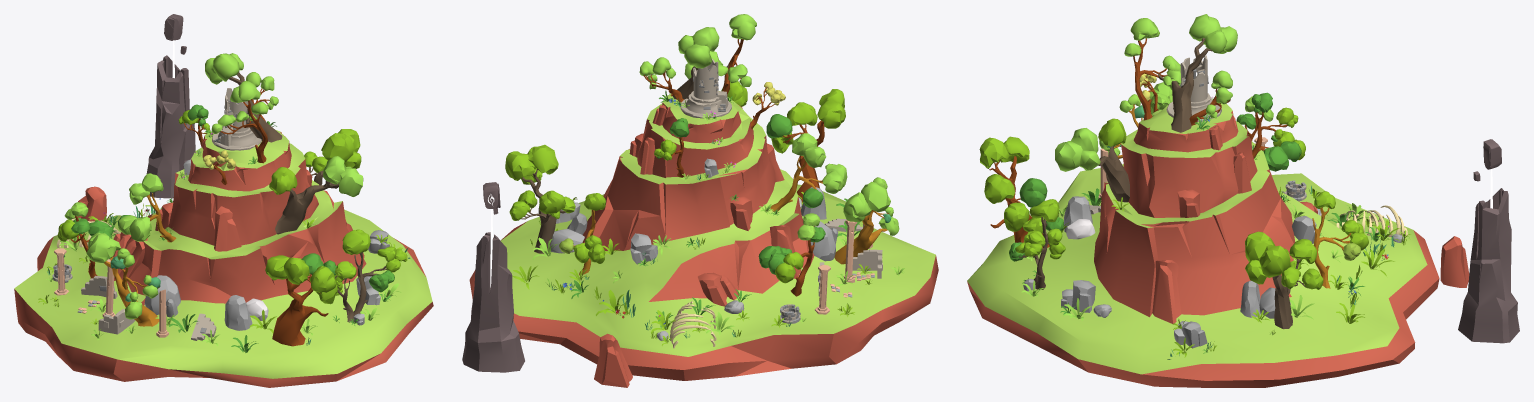
The picture shows the model from 3 angles, left to right: view 1: azimuth 30°, elevation 25°; view 2: azimuth 150°, elevation 25°; view 3: azimuth 270°, elevation 25°; orthographic projection. The views are drawn at different scales.
Visible parts, largest first — view 1: Plane.014_108, Cylinder.009_94, Cube.016_14, Cube.070_68, Cylinder.002_87, Mball.005_126, Mball.112_122, Mball.021_112, Mball.004_116, Cube.076_265, Mball.001_125, Icosphere.003_96 (+22 smaller); view 2: Plane.014_108, Cylinder.009_94, Cylinder.002_87, Mball.005_126, Cube.080_270, Mball.035_2, Mball.001_125, Mball.112_122, Mball.004_116, Cube.013_11, Mball.061_167, Cube.038_39 (+18 smaller); view 3: Plane.014_108, Cylinder.009_94, Mball.005_126, Cube.077_266, Mball.021_112, Cube.015_81, Mball.001_125, Cube.080_270, Mball.004_116, Cylinder.002_87, Mball.112_122, Cube.070_68 (+21 smaller).
Boxes of the visible parts, <box> form: Plane.014_108: <box>14,130,433,387</box>; Cylinder.009_94: <box>146,55,195,198</box>; Cube.016_14: <box>272,276,328,346</box>; Cube.070_68: <box>275,181,338,234</box>; Cylinder.002_87: <box>212,88,261,150</box>; Mball.005_126: <box>321,129,361,168</box>; Mball.112_122: <box>211,81,268,133</box>; Mball.021_112: <box>323,156,363,196</box>; Mball.004_116: <box>265,255,309,284</box>; Cube.076_265: <box>214,206,241,251</box>; Mball.001_125: <box>205,53,243,84</box>; Icosphere.003_96: <box>224,295,252,330</box>; Plane.014_108: <box>469,91,938,380</box>; Cylinder.009_94: <box>462,232,524,372</box>; Cylinder.002_87: <box>680,59,731,118</box>; Mball.005_126: <box>505,144,558,184</box>; Cube.080_270: <box>594,333,632,387</box>; Mball.035_2: <box>843,181,890,221</box>; Mball.001_125: <box>678,27,719,68</box>; Mball.112_122: <box>718,14,756,87</box>; Mball.004_116: <box>817,89,845,128</box>; Cube.013_11: <box>834,210,887,264</box>; Mball.061_167: <box>792,133,826,167</box>; Cube.038_39: <box>522,169,565,253</box>; Plane.014_108: <box>967,99,1439,387</box>; Cylinder.009_94: <box>1458,188,1519,343</box>; Mball.005_126: <box>1245,231,1290,284</box>; Cube.077_266: <box>1152,260,1181,323</box>; Mball.021_112: <box>1055,128,1100,171</box>; Cube.015_81: <box>1158,38,1212,132</box>; Mball.001_125: <box>1189,14,1237,53</box>; Cube.080_270: <box>1440,236,1469,287</box>; Mball.004_116: <box>979,136,1029,168</box>; Cylinder.002_87: <box>1166,55,1221,122</box>; Mball.112_122: <box>1124,18,1181,86</box>; Cube.070_68: <box>1098,145,1129,202</box>.
Size of the model in its own units: 142 by 94.32 by 165.
